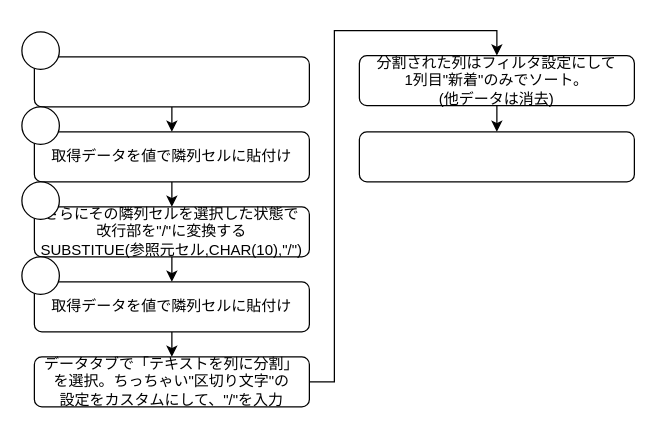
This 656x430 diagram has some shape labels left out. The centre of each missing label's shape, as x and y in pixels:
CSサイトからデータ取得 IMPORTHTML(取得元urlの記載セル,"list",x(リンク先いくつ目のli)): point 171,81
マスタデータに積み上げ: point 496,156
